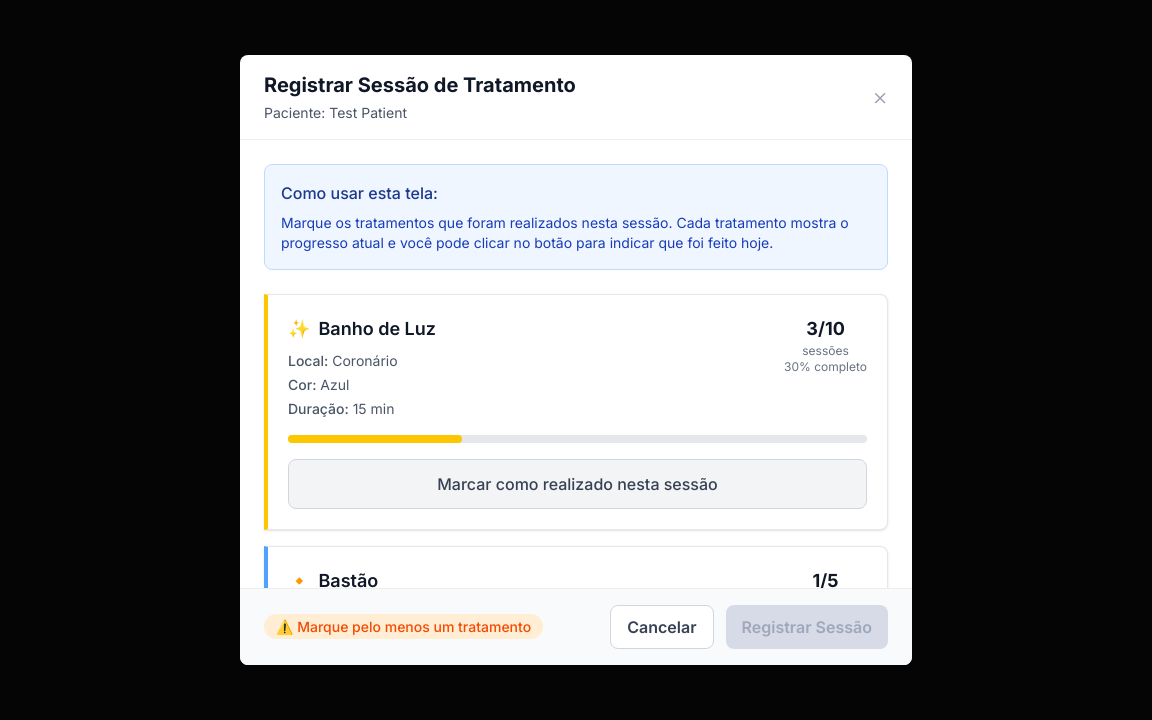
Scenario: PostTreatmentModal › Form Interactions › should allow submission when at least one treatment is marked
The width and height of the screenshot is (1152, 720).
Click the button "Marcar como realizado nesta sessão" at (578, 484), box [288,459,867,509]
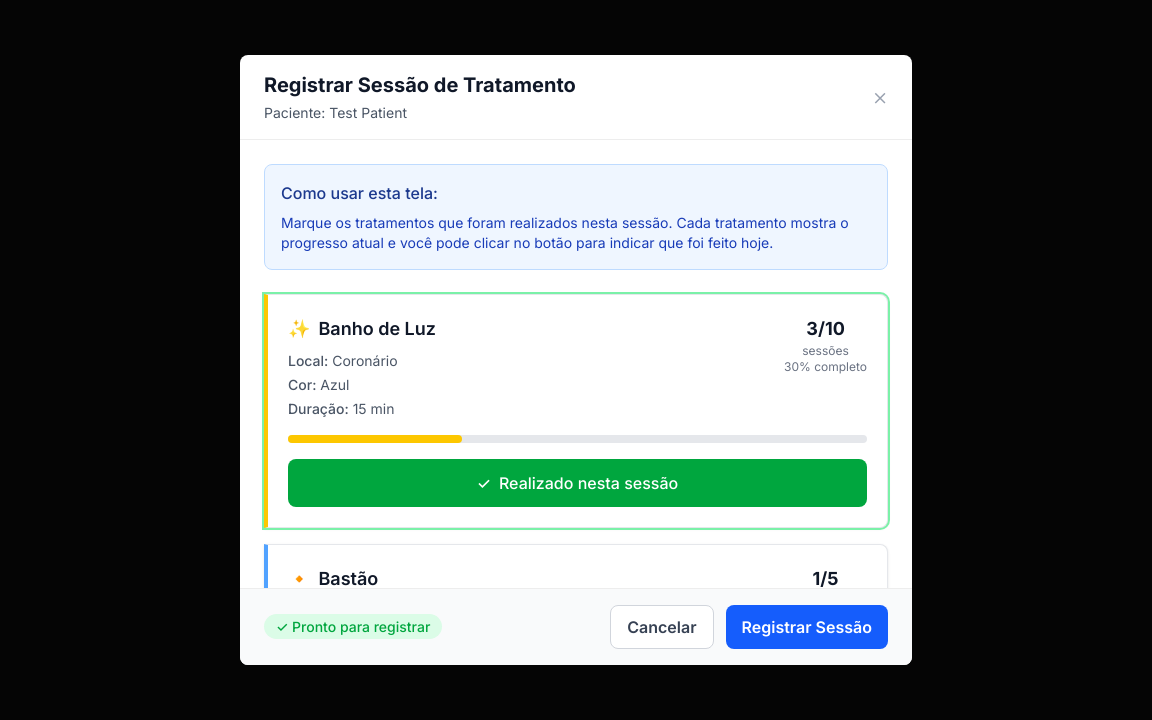
Result: the button "Registrar Sessão" is enabled at [726,605,888,649]
